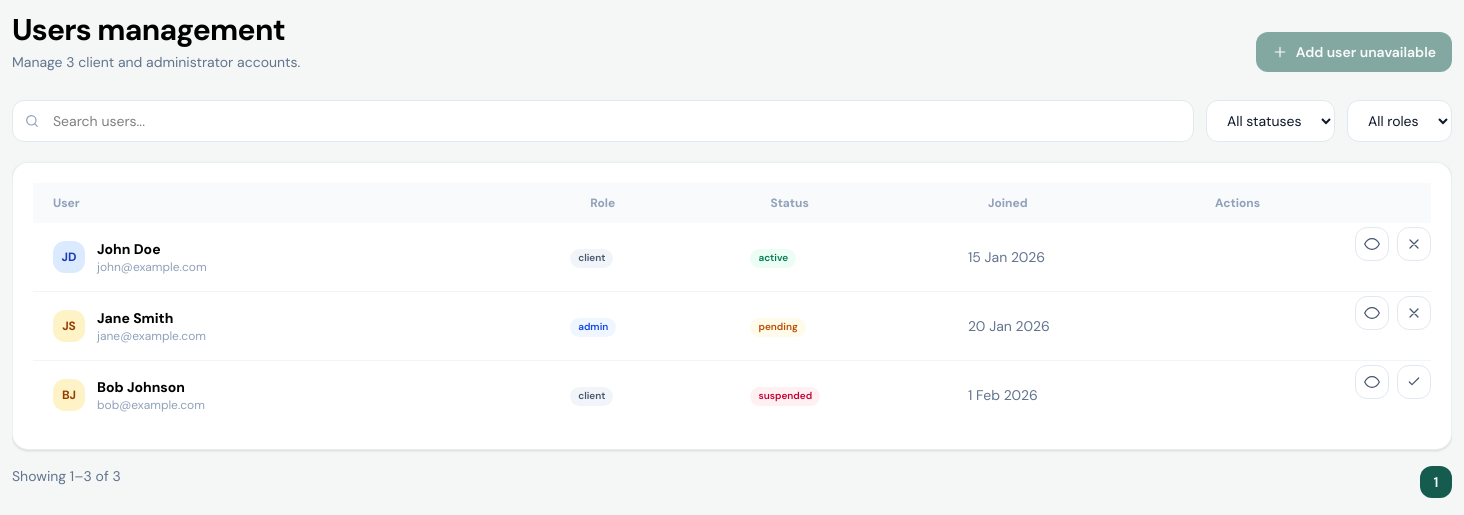
AdminUsers › filters users by role
The image size is (1464, 515).
Check: the text "John Doe" is shown, box [97,240,161,258]
Select "Admin" in the dropdown named "Filter by user role" at coordinates (1400, 121), box [1347,100,1452,142]
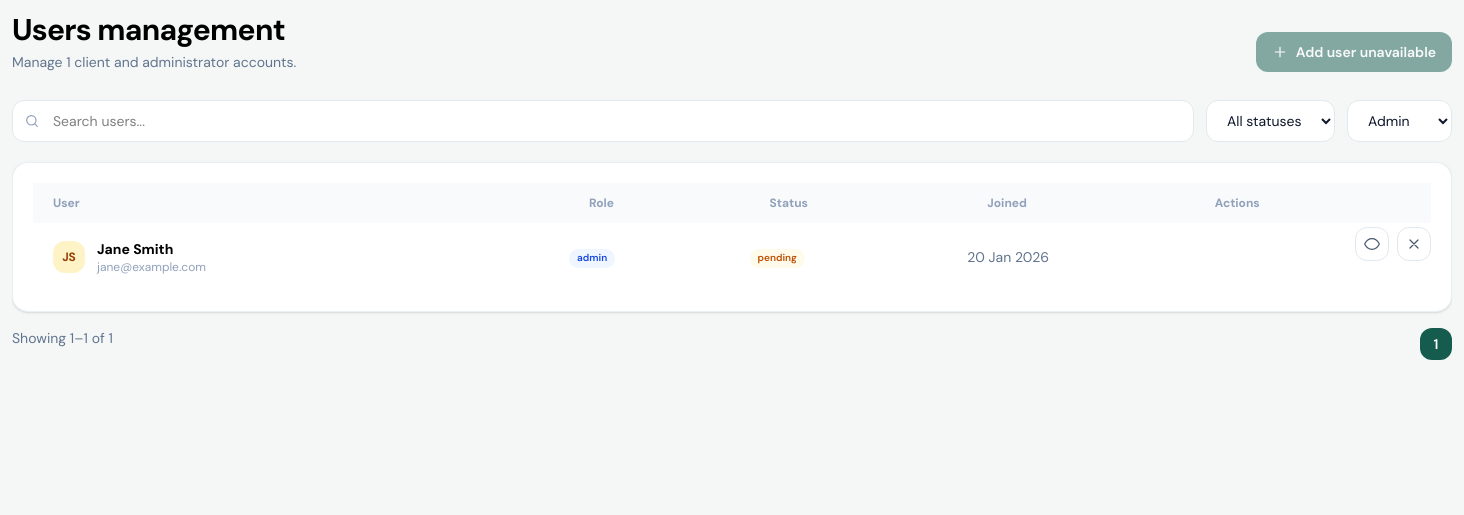
Check: the text "Jane Smith" is shown, box [97,240,173,258]
Check: the text "John Doe" is gone
